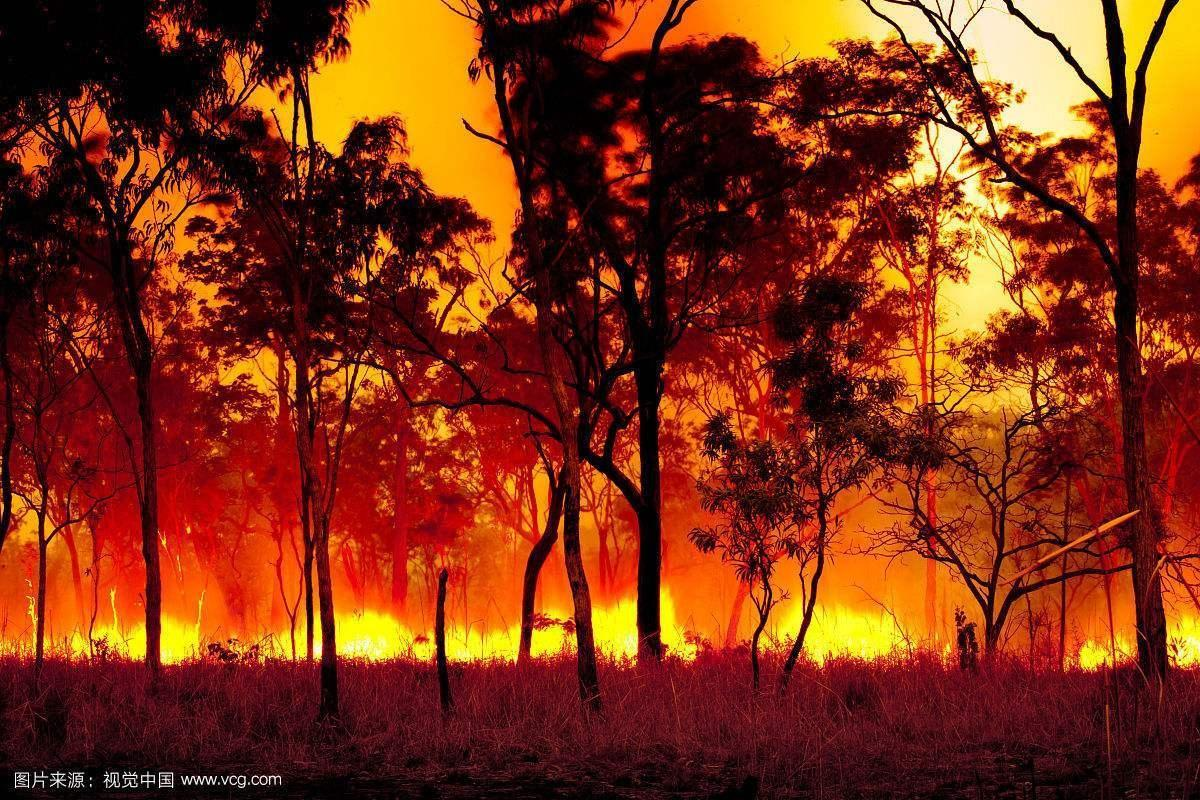fire: (15, 565, 1185, 682)
